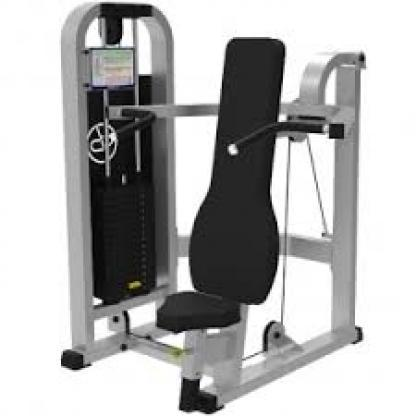shoulder press machine: (37, 0, 416, 416)
